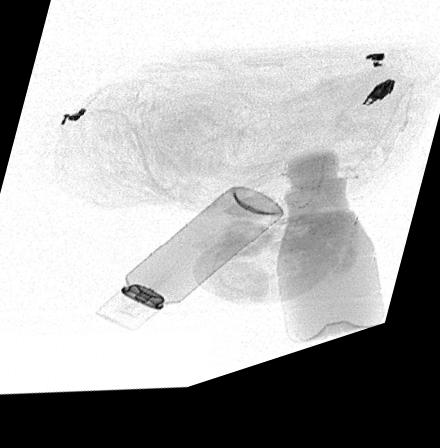Sprayer: (95, 201, 284, 339)
